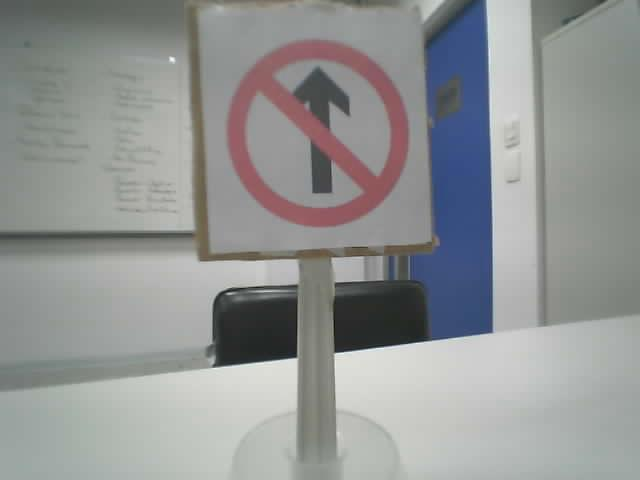R-3_sentido-proibido: (225, 38, 407, 226)
